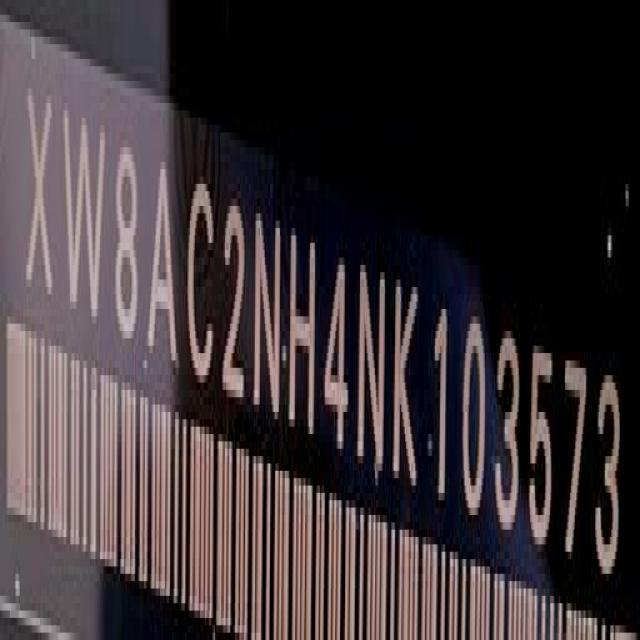0: (464, 307, 488, 521)
1: (432, 294, 449, 514)
2: (223, 198, 247, 416)
3: (598, 364, 622, 588), (497, 329, 522, 540)
4: (324, 247, 349, 469)
5: (530, 334, 554, 557)
7: (561, 344, 586, 576)
8: (116, 140, 140, 347)
A: (150, 161, 178, 375)
C: (186, 169, 214, 393)
H: (292, 226, 318, 445)
K: (392, 267, 422, 490)
N: (255, 203, 284, 425), (360, 258, 386, 486)
W: (62, 100, 104, 332)
X: (27, 83, 53, 311)
